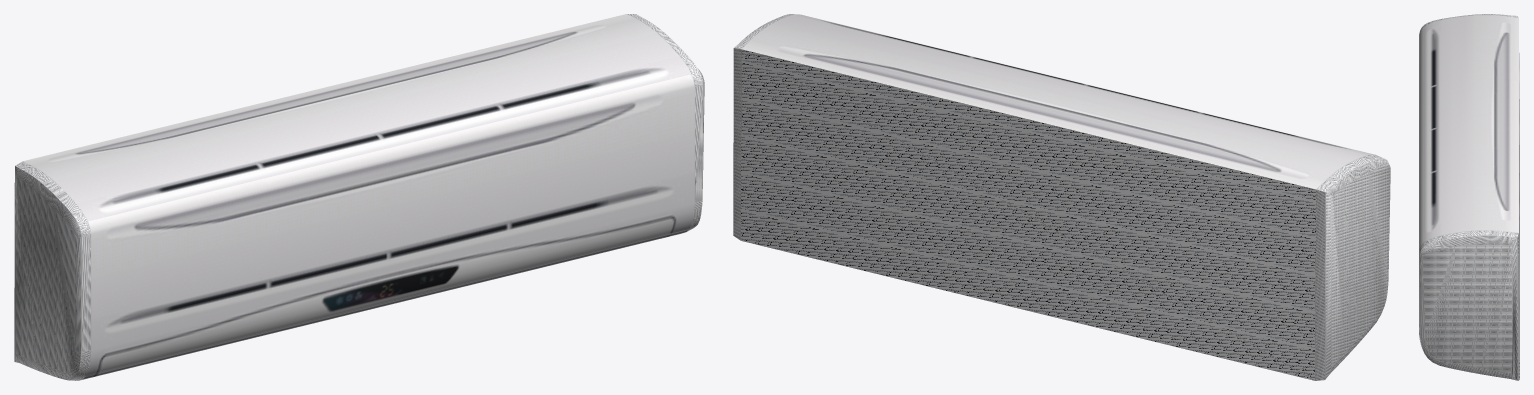
The model's file is Air conditioner.FBX.
3 renders of one model, left to right at view 1: azimuth 30°, elevation 25°; view 2: azimuth 150°, elevation 25°; view 3: azimuth 270°, elevation 25°, orthographic. The views are drawn at different scales.
Parts seen in each view (by area): view 1: air conditioner; view 2: air conditioner; view 3: air conditioner.
Part boxes in pixels (box(x1,y1,x2,y2)): air conditioner: box(14, 14, 704, 380); air conditioner: box(733, 14, 1390, 380); air conditioner: box(1419, 14, 1519, 380).
Size of the model in its own units: 90.56 by 28.18 by 17.27.
